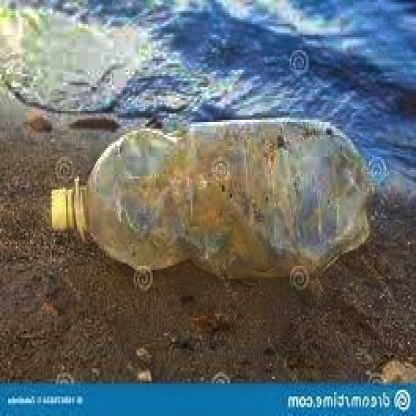pbottle: (41, 102, 372, 281)
